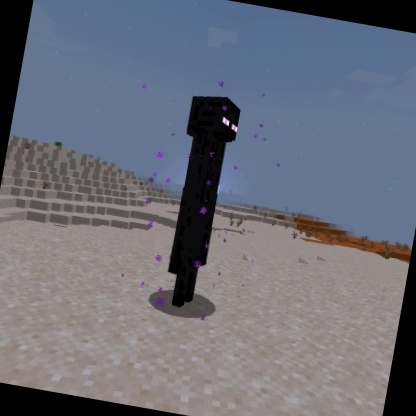enderman: (151, 88, 246, 317)
